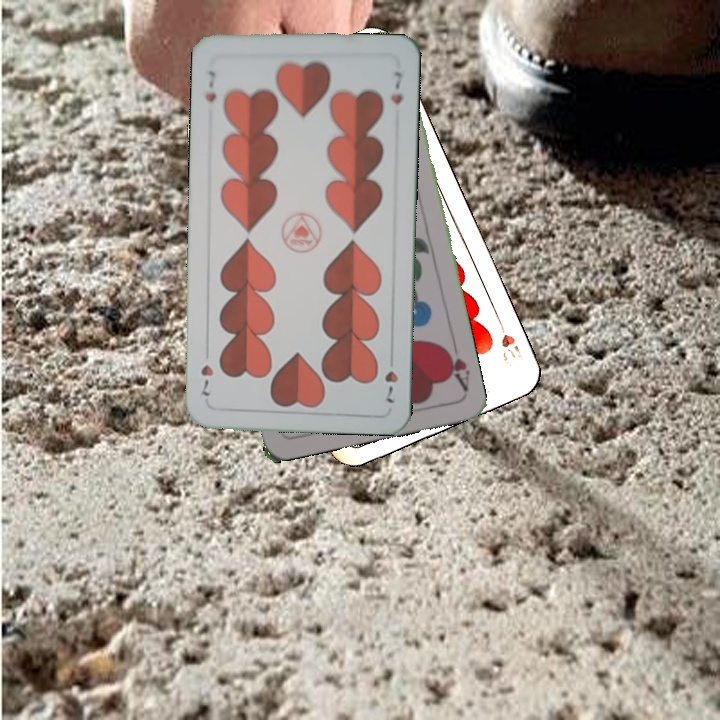H10: (493, 313, 527, 364)
H7: (381, 349, 401, 406), (201, 67, 219, 105)
HA: (439, 336, 473, 395)
